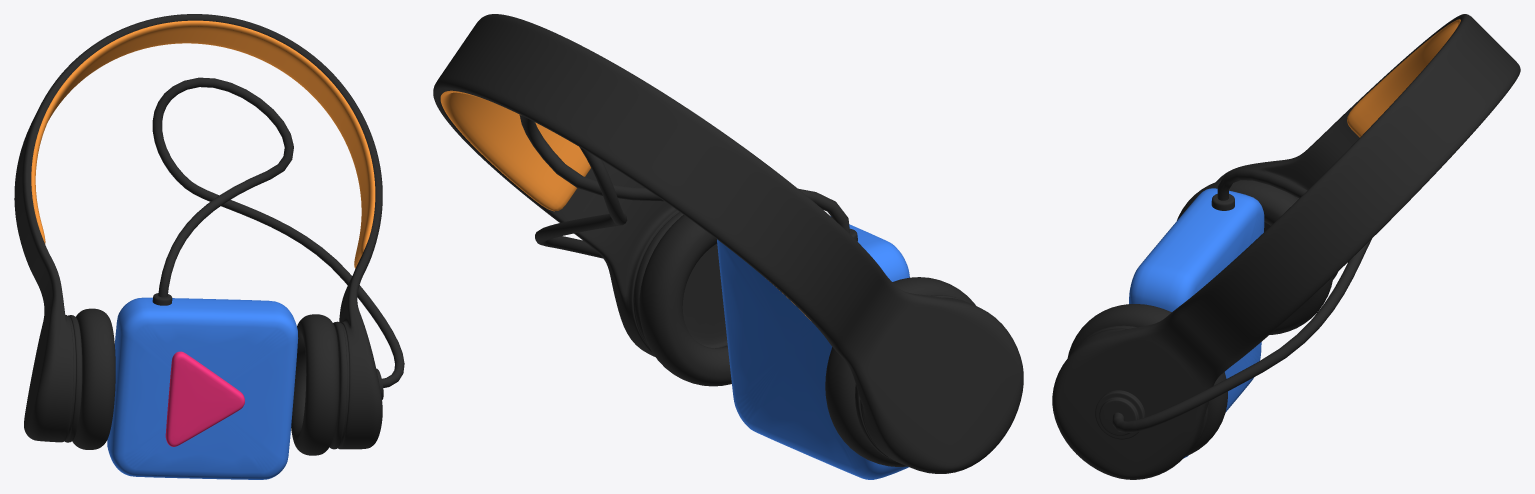
The model's file is headphones.glb.
3 renders of one model, left to right at view 1: azimuth 30°, elevation 25°; view 2: azimuth 150°, elevation 25°; view 3: azimuth 270°, elevation 25°, orthographic. The views are drawn at different scales.
Parts seen in each view (by area): view 1: Plane.001, Circle, Circle.001, Circle.002, BezierCurve, Plane.002; view 2: Circle, Plane.001, Circle.001, Circle.002, BezierCurve; view 3: Circle, Plane.001, Circle.001, BezierCurve, Circle.002, Cylinder.
Part boxes in pixels (x1,y1,x2,y2): Plane.001: (107, 297, 298, 479); Circle: (14, 14, 382, 449); Circle.001: (72, 308, 339, 455); Circle.002: (31, 20, 375, 268); BezierCurve: (152, 77, 404, 387); Plane.002: (165, 351, 244, 446); Circle: (433, 14, 1023, 473); Plane.001: (717, 216, 909, 479); Circle.001: (639, 215, 975, 466); Circle.002: (440, 90, 810, 320); BezierCurve: (519, 115, 849, 258); Circle: (1052, 14, 1520, 479); Plane.001: (1129, 188, 1264, 458); Circle.001: (1067, 180, 1333, 456); BezierCurve: (1112, 168, 1371, 432); Circle.002: (1347, 19, 1460, 137); Cylinder: (1095, 390, 1145, 439).
Size of the model in its own units: 1.79 by 1.66 by 1.62.
